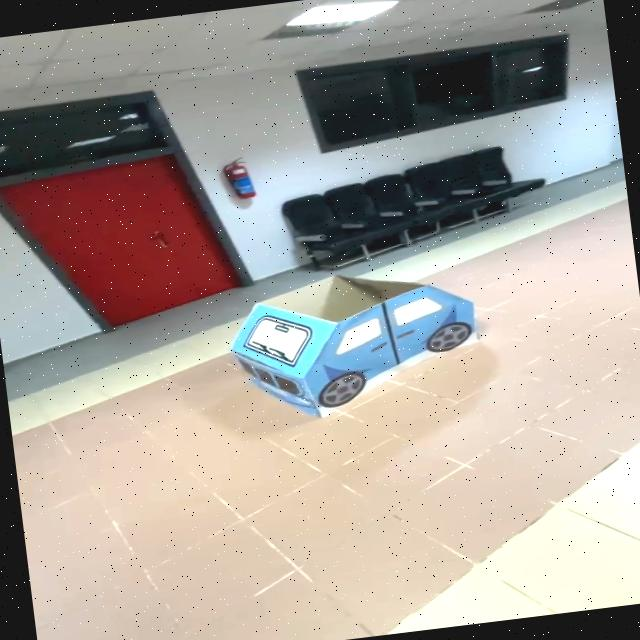blue_car: (212, 254, 505, 436)
